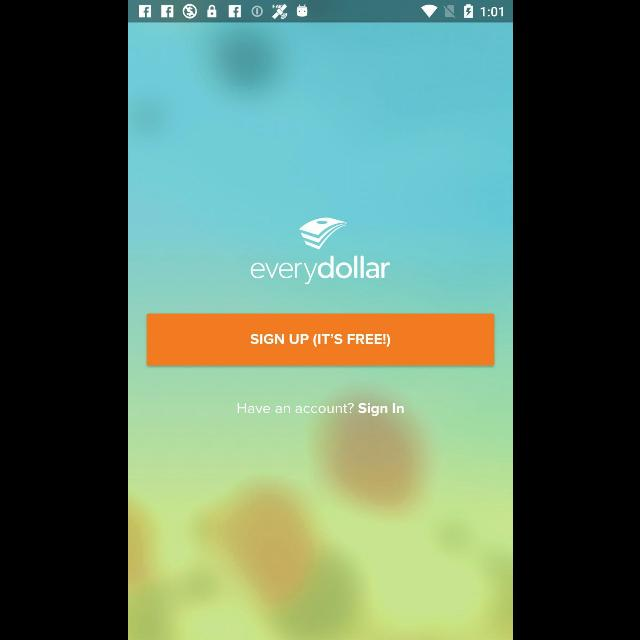image: (250, 218, 390, 284)
text: (237, 403, 403, 417)
textbutton: (146, 314, 494, 366)
uppertaskbar: (128, 1, 512, 23)
